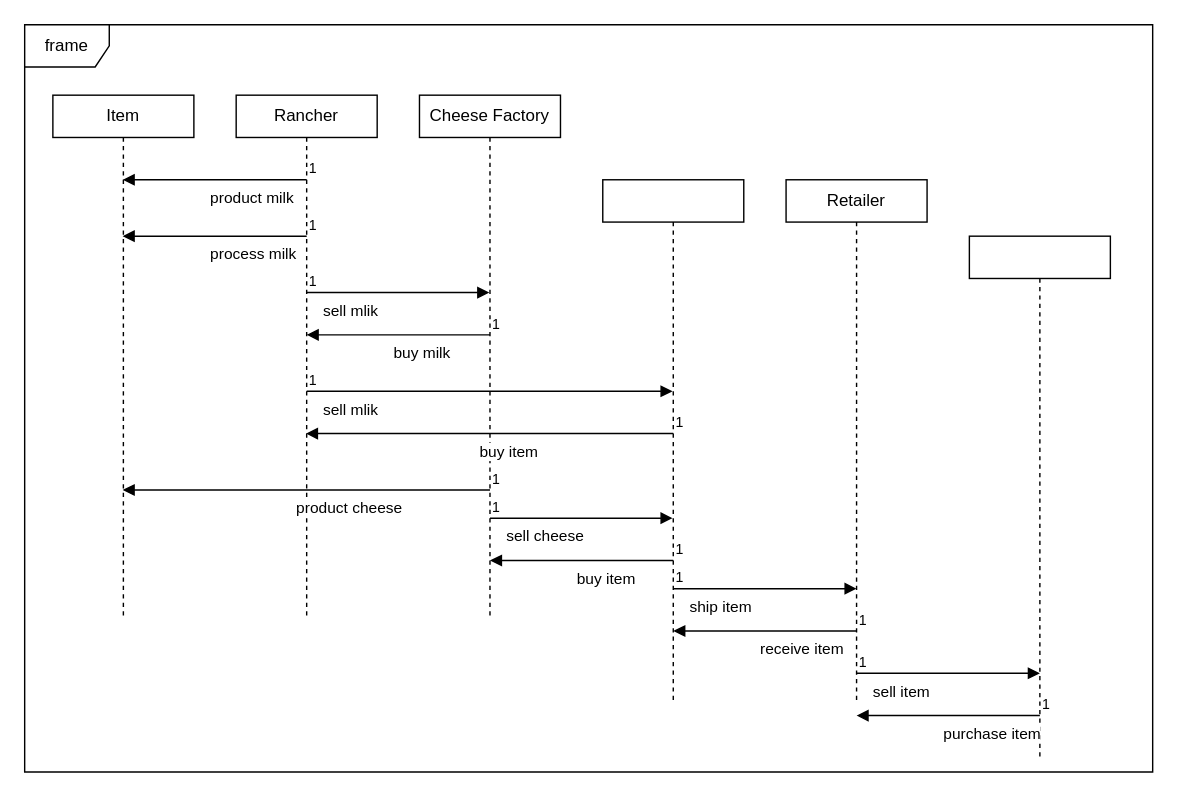
Image size: 1177x797. Some labels were removed from this diagram. The box of each missing label's shape, as (x1, y1, x2, y2) in pixels:
Consumer: (968, 235, 1110, 758)
Distributor: (601, 178, 744, 701)
